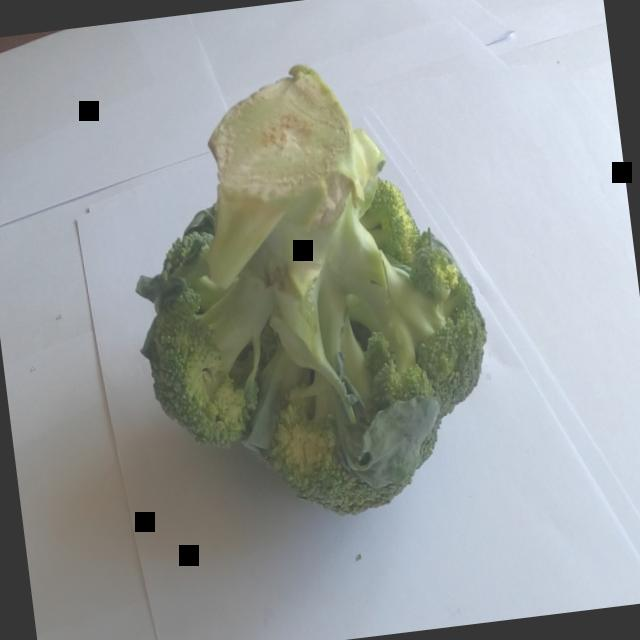Broccoli: (100, 33, 512, 539)
